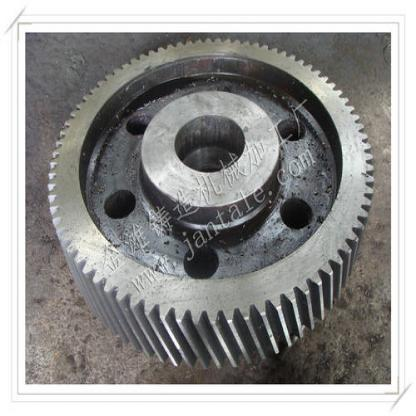FOD: (43, 35, 378, 371)
